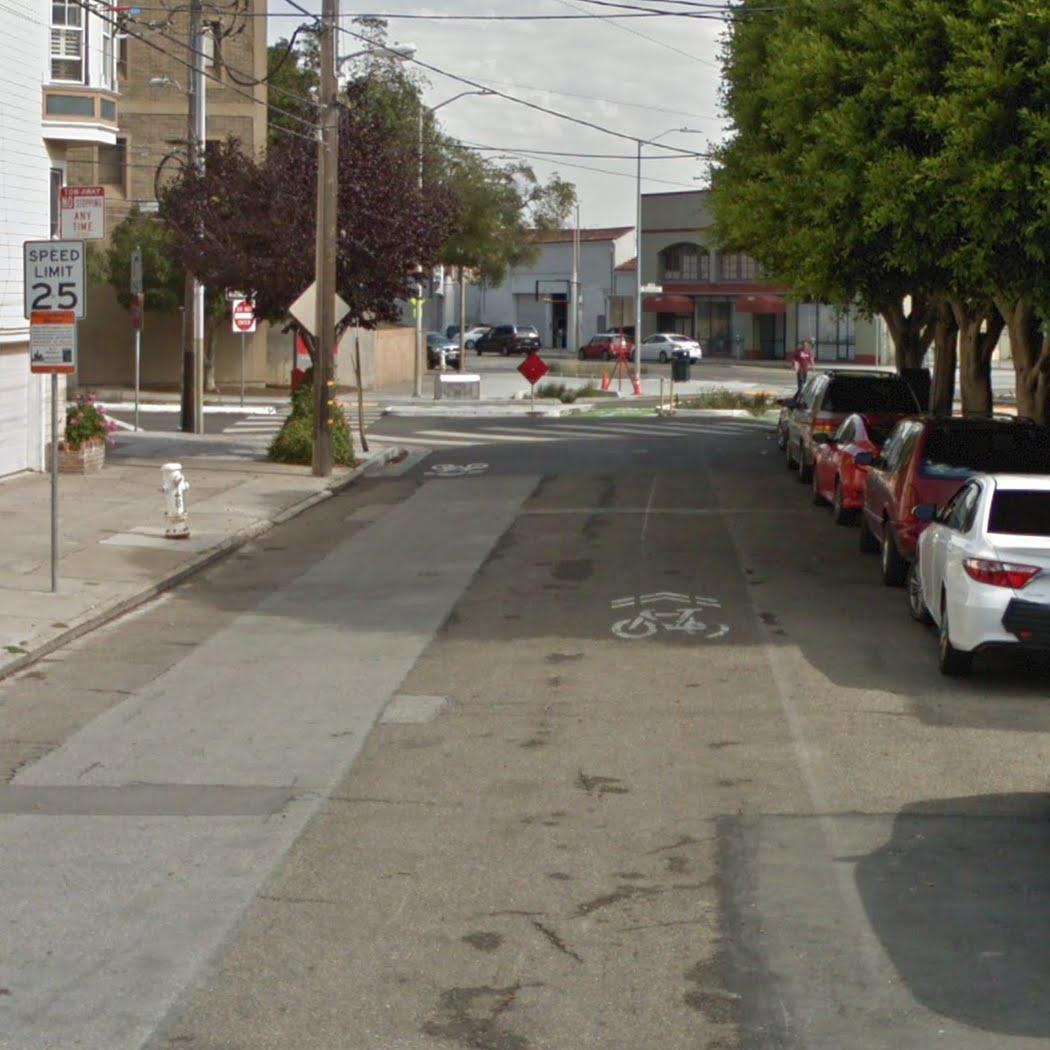No Parking Anytime: (57, 185, 108, 244)
